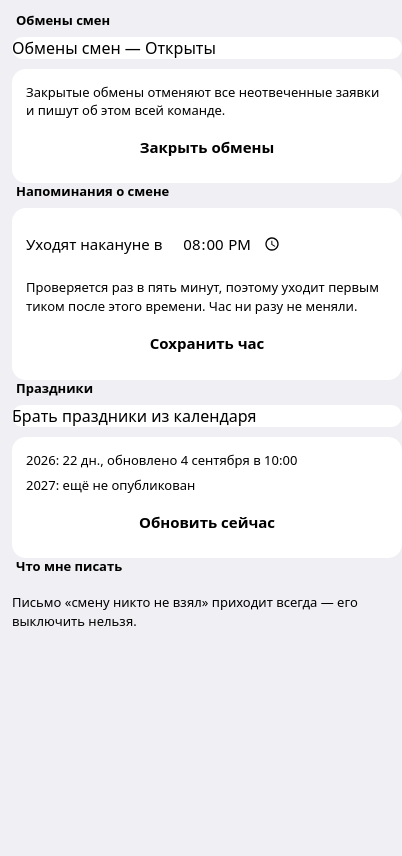
Test: настройки — праздники › кнопка «Обновить сейчас» показывает итог по годам
This screenshot has width=402, height=856.
Click the button "Обновить сейчас". click: (207, 522)
box: [26, 500, 388, 544]
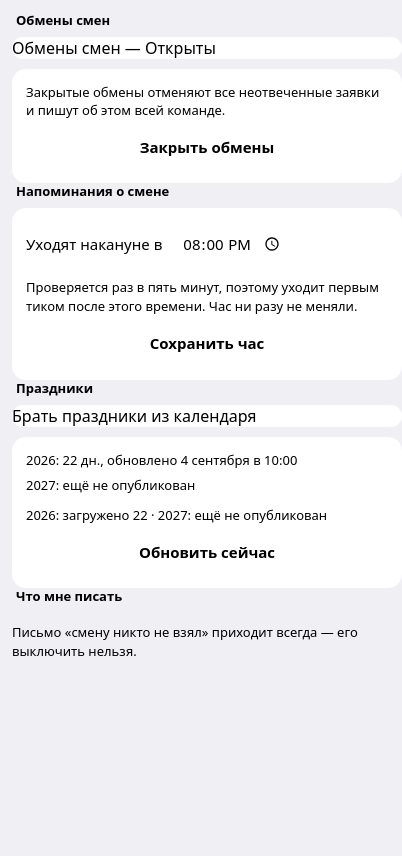
Expected: the text "2027: ещё не опубликован" is shown, [26, 476, 195, 494]
Expected: the text "2026: загружено 22" is shown, [26, 506, 327, 524]
